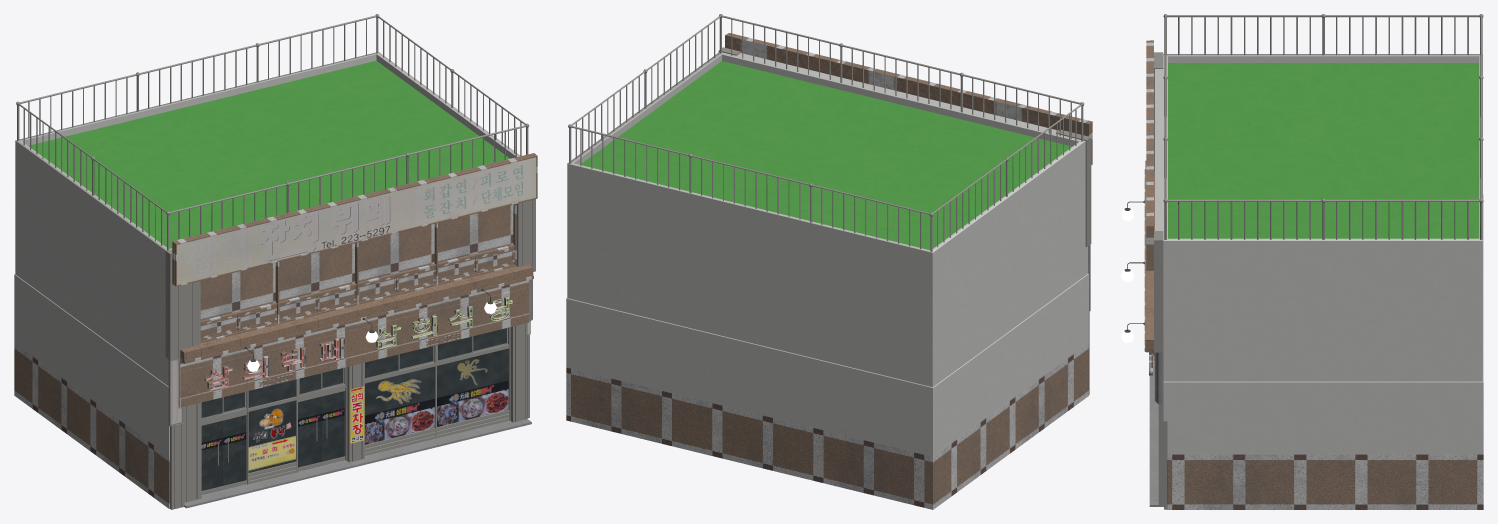
File: Building.fbx
3 views of the same model, side by side, from view 1: azimuth 30°, elevation 25°; view 2: azimuth 150°, elevation 25°; view 3: azimuth 270°, elevation 25° (orthographic). The views are drawn at different scales.
Visible parts, largest first — view 1: Trim_Wall, Trim_Etc, 1F_Window_Trim_Etc_Glass, Trim_Floor, MainDoor_R.001, MainDoor_R002, MainDoor_L002, MainDoor_L.001; view 2: Trim_Wall, Trim_Etc; view 3: Trim_Wall, Trim_Etc, Trim_Floor.
Part boxes in pixels (bbox=[...]): Trim_Wall: bbox=[14, 52, 537, 508]; Trim_Etc: bbox=[16, 14, 536, 509]; 1F_Window_Trim_Etc_Glass: bbox=[201, 328, 508, 472]; Trim_Floor: bbox=[184, 419, 531, 508]; MainDoor_R.001: bbox=[222, 415, 246, 485]; MainDoor_R002: bbox=[321, 391, 344, 461]; MainDoor_L002: bbox=[298, 397, 320, 467]; MainDoor_L.001: bbox=[201, 421, 222, 490]; Trim_Wall: bbox=[566, 33, 1092, 509]; Trim_Etc: bbox=[568, 14, 1091, 394]; Trim_Wall: bbox=[1144, 40, 1483, 509]; Trim_Etc: bbox=[1121, 14, 1483, 509]; Trim_Floor: bbox=[1149, 354, 1158, 506].
Size of the model in its own units: 9.48 by 8.94 by 11.64.
